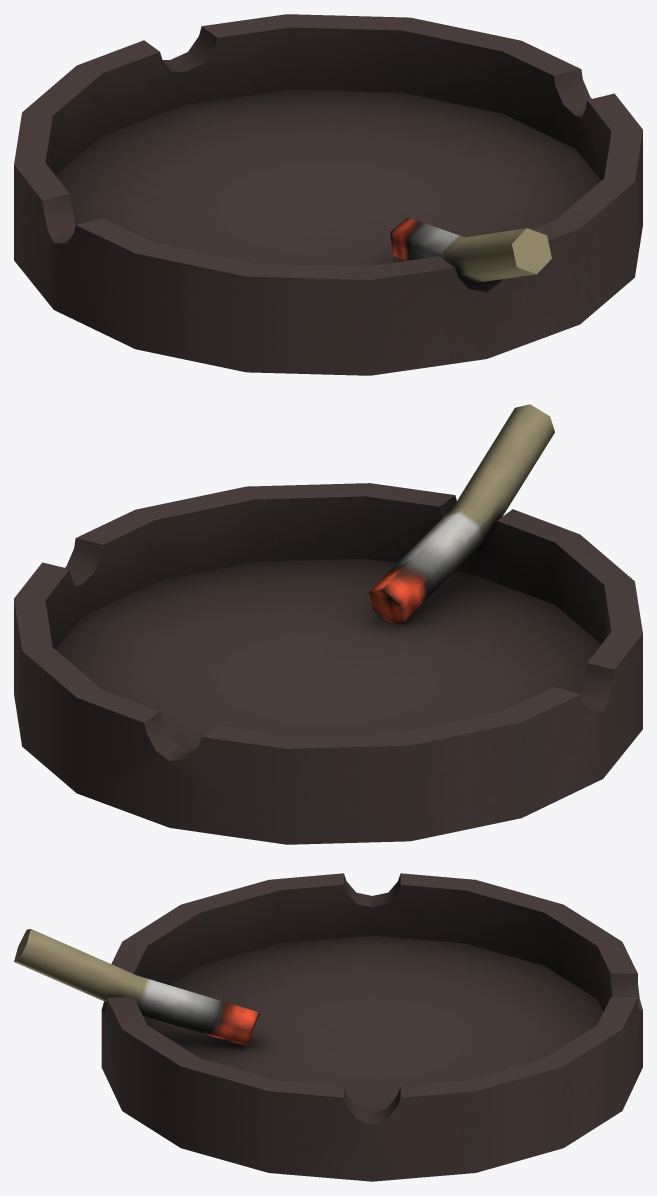
Rendered from ashtray.fbx.
3 views of the same model, one above another, from view 1: azimuth 30°, elevation 25°; view 2: azimuth 150°, elevation 25°; view 3: azimuth 270°, elevation 25° (orthographic). The views are drawn at different scales.
Visible parts, largest first — view 1: ashtray; view 2: ashtray; view 3: ashtray.
Boxes of the visible parts, x1=… form: ashtray: x1=14, y1=14, x2=642, y2=375; ashtray: x1=14, y1=404, x2=642, y2=844; ashtray: x1=14, y1=873, x2=642, y2=1181.
Size of the model in its own units: 58.11 by 16.33 by 67.51.
